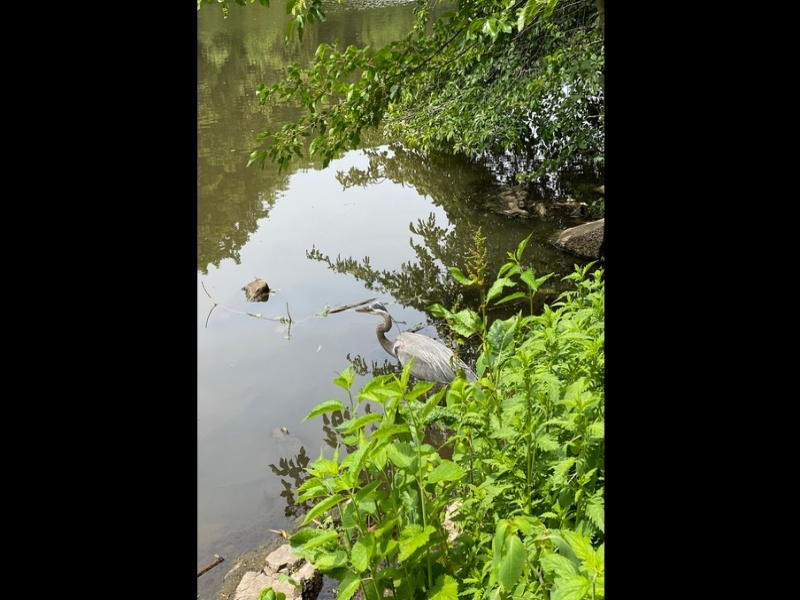heron: (353, 302, 476, 389)
